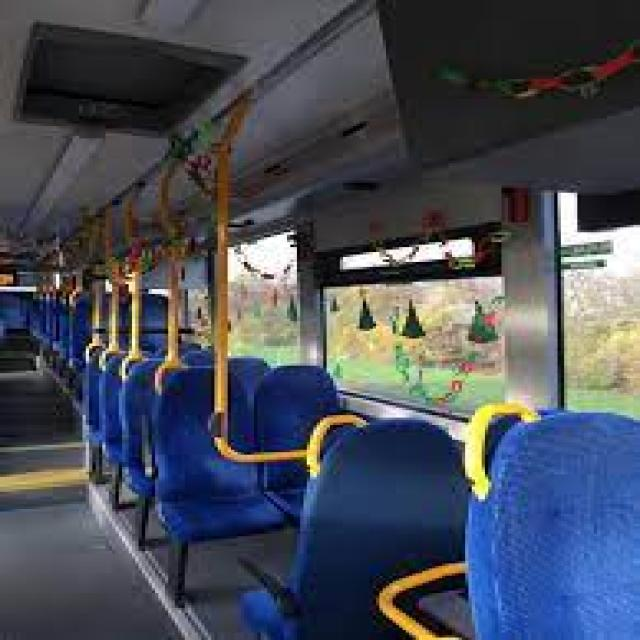empty-seat-frontal: (150, 363, 286, 537)
